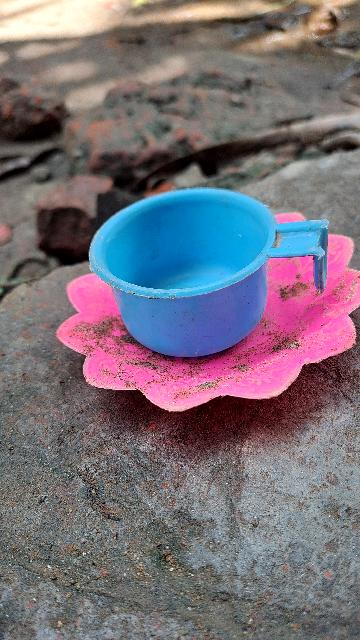hardplastic: (72, 186, 359, 396)
